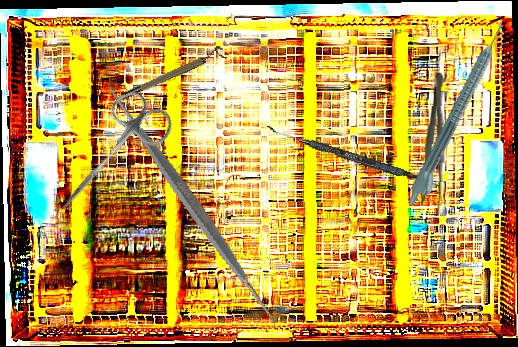Dressing Forceps: (418, 71, 451, 217)
Fixation Ring: (118, 44, 227, 102)
Handpiece: (402, 19, 517, 214)
Iris Scissors: (36, 82, 180, 235)
Spatula Surgical: (57, 71, 328, 341), (264, 125, 442, 189)
